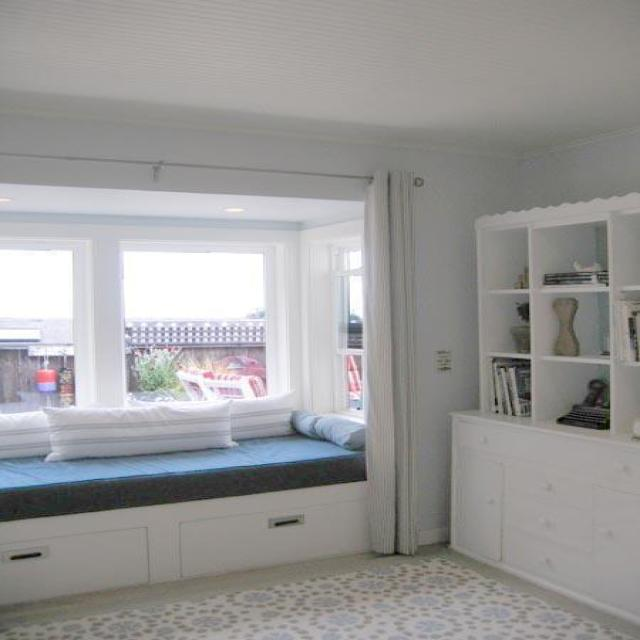cupboard: (445, 191, 639, 625)
curtains: (361, 168, 418, 554)
plants: (131, 346, 185, 394)
rugs: (0, 550, 636, 639)
windows: (116, 240, 278, 404), (0, 239, 88, 414)
